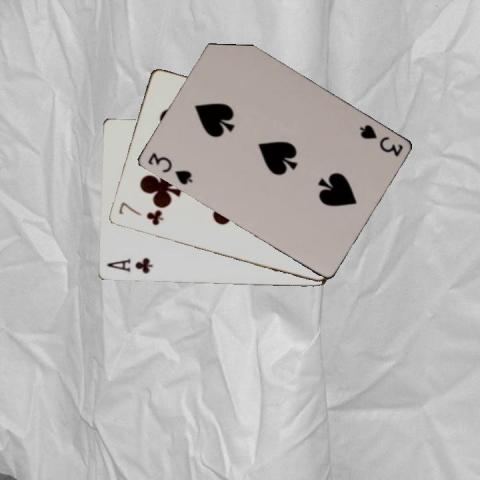3s: (144, 149, 193, 187), (356, 121, 404, 158)
7c: (115, 199, 165, 228)
Ac: (103, 256, 154, 275)
